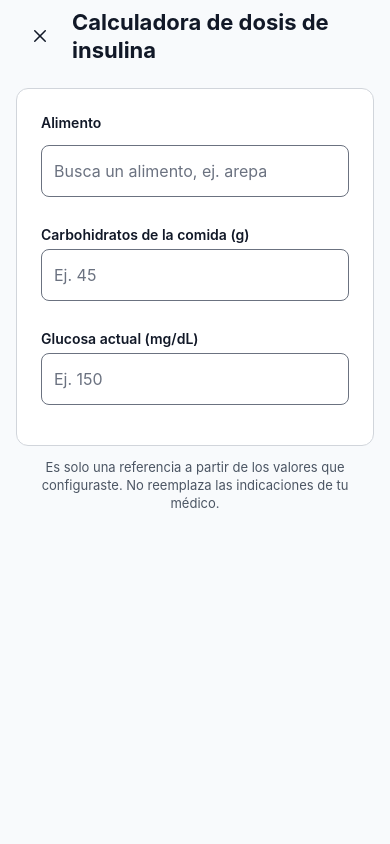
Test case: InsulinCalculatorScreen › no sugiere una dosis negativa cuando la glucosa está bajo la meta
Step 1. Type "0" into the field named "Carbohidratos de la comida (g)" → coordinates (195, 275), box 54,253 -> 336,297
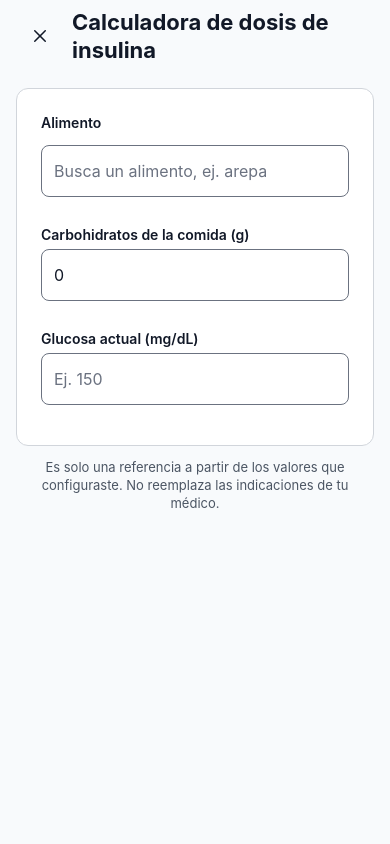
Step 2. Type "90" into the field named "Glucosa actual (mg/dL)" → coordinates (195, 379), box 54,357 -> 336,401
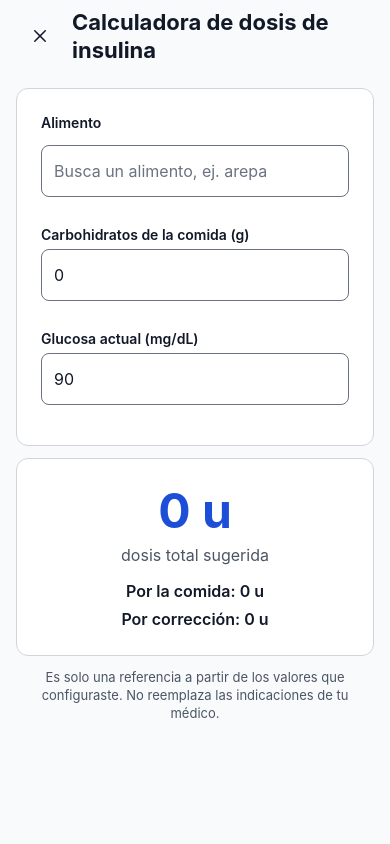
Expected: the text "0 u" is shown, 158,483 -> 232,539
